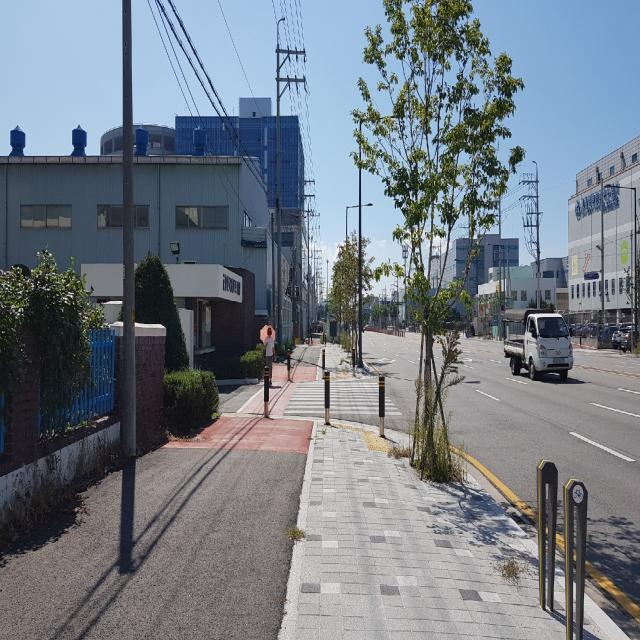횡단보도: (283, 382, 403, 416)
